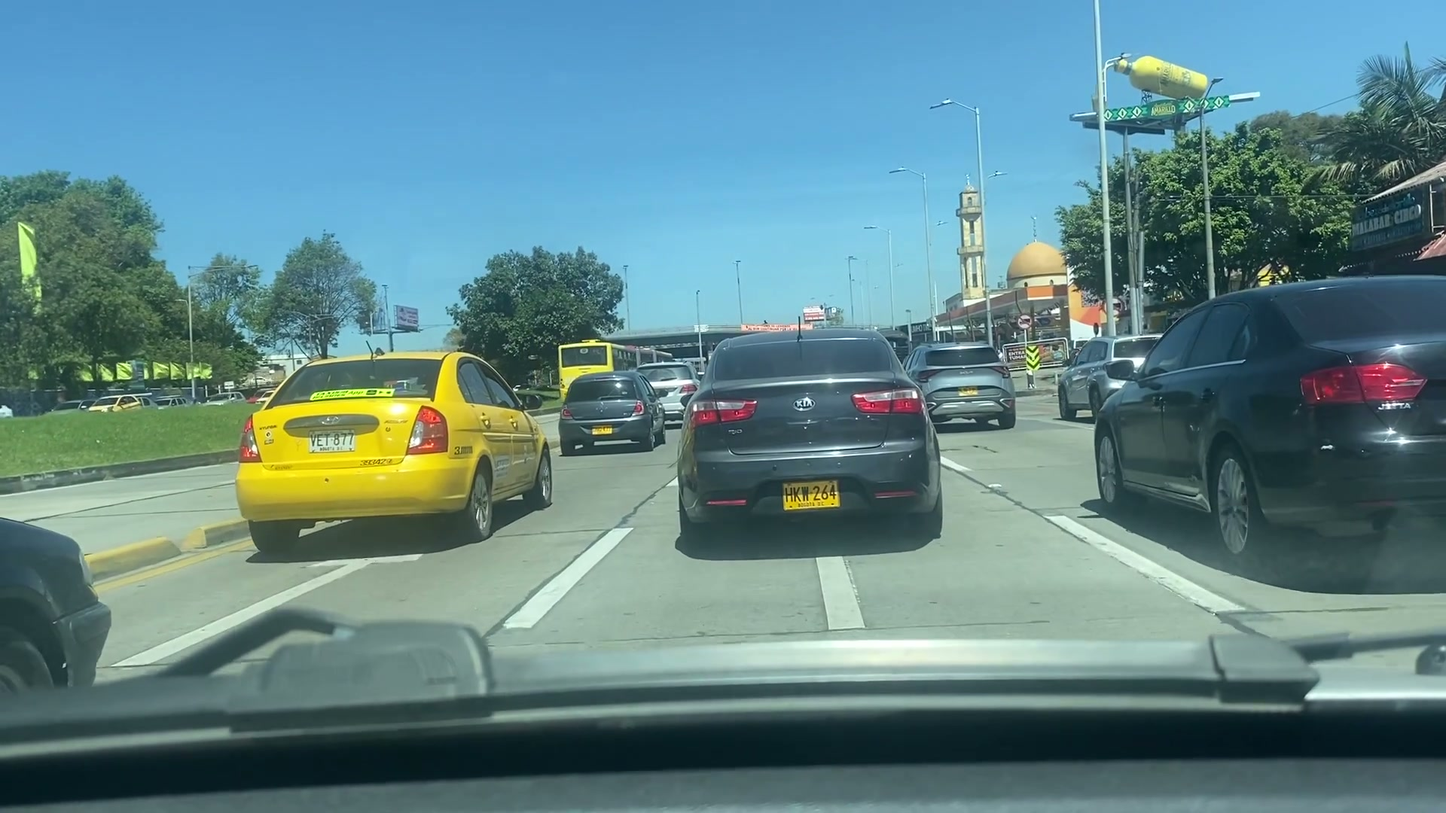car: (1088, 268, 1446, 571), (228, 354, 563, 541), (678, 324, 944, 544), (0, 497, 124, 694), (903, 344, 1024, 434), (1053, 335, 1163, 420), (559, 378, 669, 451), (88, 396, 143, 413)
